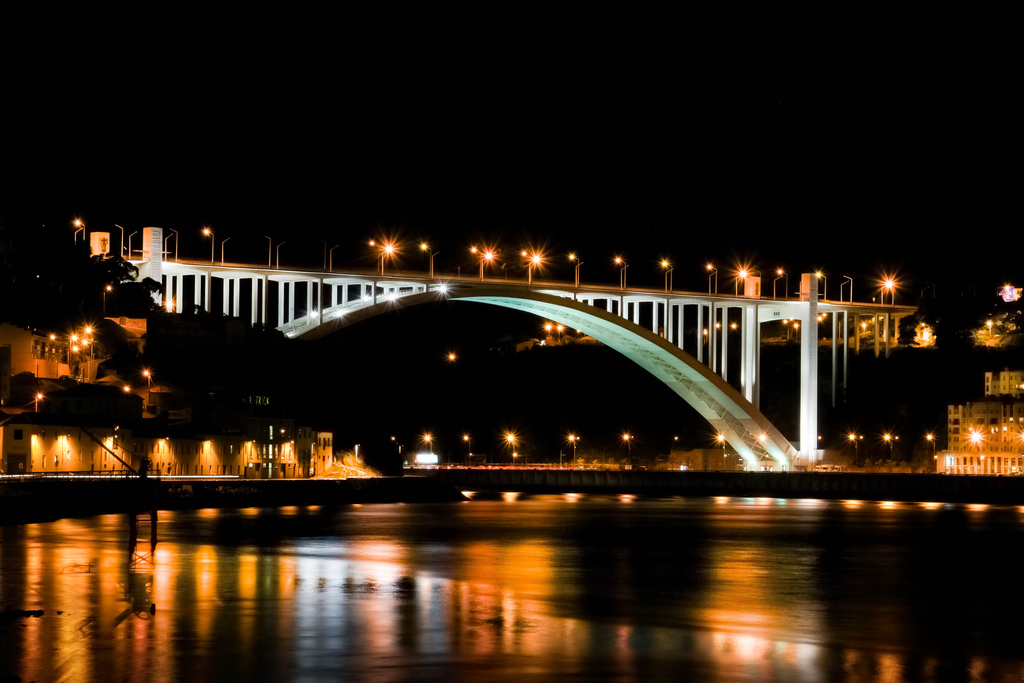arrabida: (74, 225, 918, 471)
